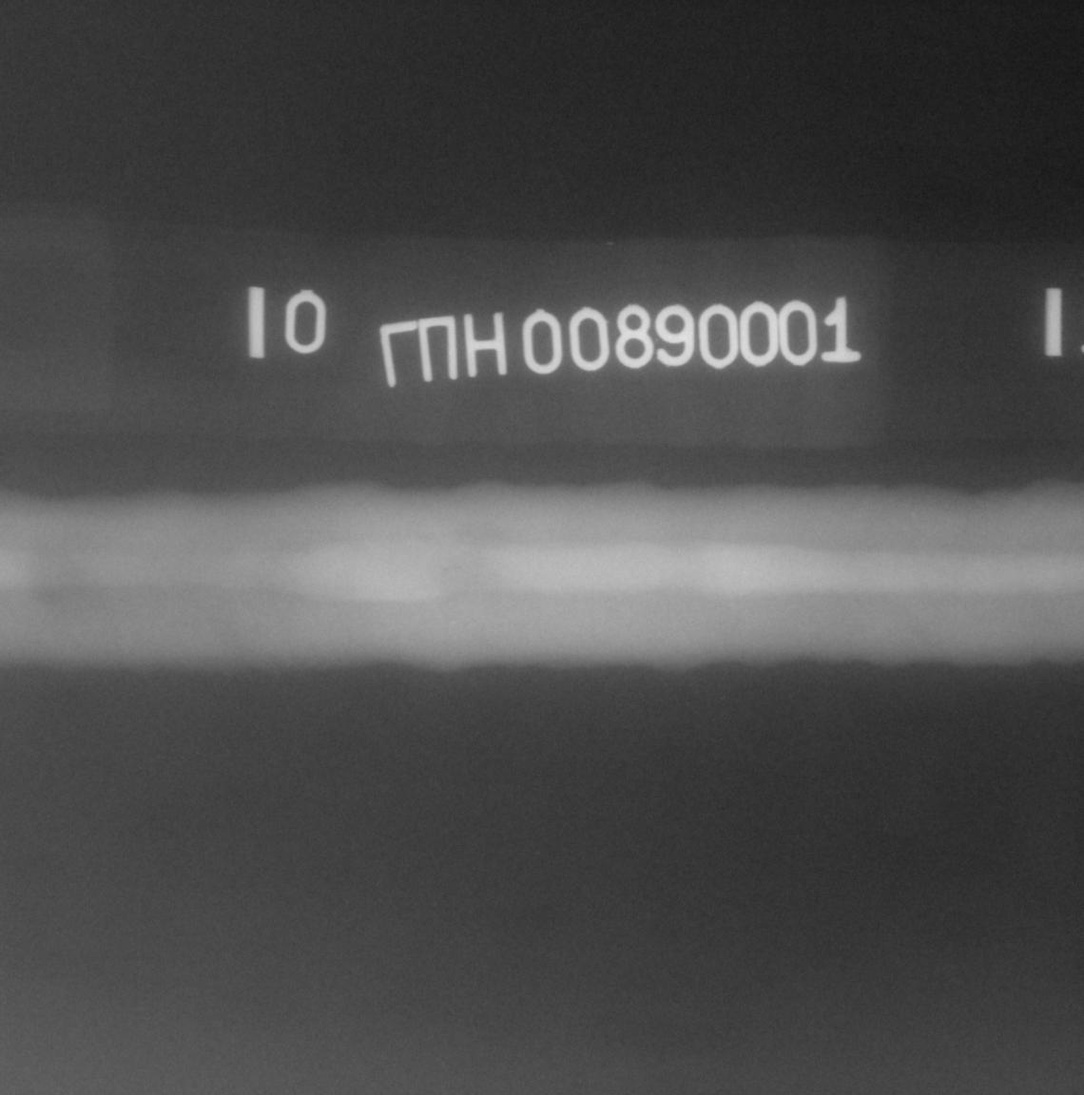Inclusion: (441, 568, 450, 575)
